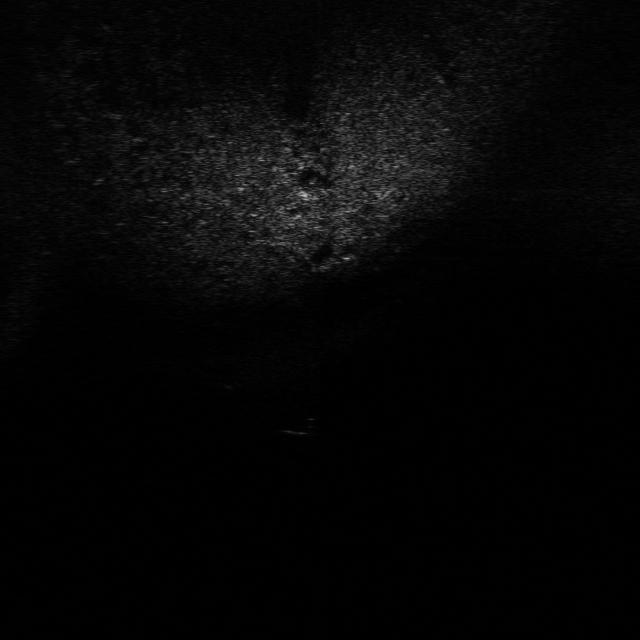cube: (268, 412, 326, 439)
